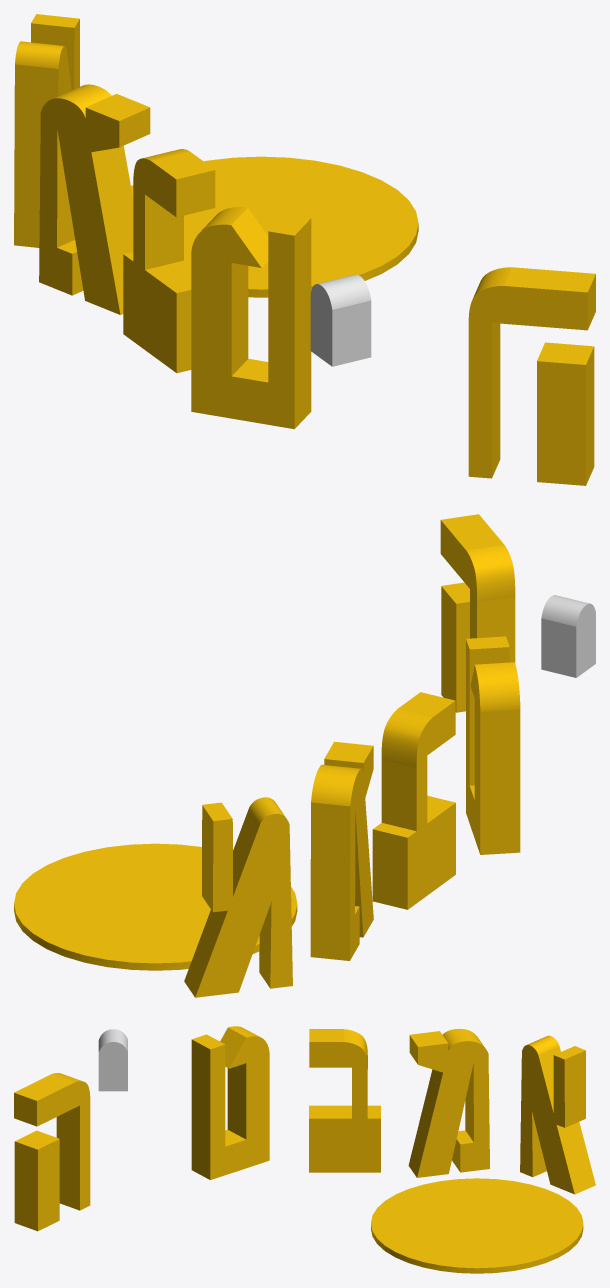
Rendered from TITLE4.gltf.
3 views of the same model, one above another, from view 1: azimuth 30°, elevation 25°; view 2: azimuth 150°, elevation 25°; view 3: azimuth 270°, elevation 25° (orthographic). The views are drawn at different scales.
Parts seen in each view (by area): view 1: Cap 1 (×5), Cylinder, מ, ט, א, ב, ה, י למעלה, Cap 2; view 2: Cap 1 (×4), Cylinder, ט, מ, ב, ה, Cap 2 (×2), א, י למעלה; view 3: Cap 2 (×6), Cylinder, ה, ט, א, מ, ב, י למעלה.
Boxes of the visible parts, bbox=[...] form: Cap 1 (×5): bbox=[39, 98, 587, 485]; Cylinder: bbox=[131, 156, 418, 297]; מ: bbox=[53, 84, 150, 314]; ט: bbox=[201, 207, 311, 428]; א: bbox=[14, 14, 79, 247]; ב: bbox=[123, 149, 215, 373]; ה: bbox=[473, 267, 595, 485]; י למעלה: bbox=[317, 274, 371, 366]; Cap 2: bbox=[58, 19, 79, 95]; Cap 1 (×4): bbox=[195, 603, 595, 997]; Cylinder: bbox=[14, 843, 297, 970]; ט: bbox=[466, 636, 520, 854]; מ: bbox=[310, 741, 372, 960]; ב: bbox=[372, 692, 455, 909]; ה: bbox=[441, 514, 515, 712]; Cap 2 (×2): bbox=[440, 520, 480, 854]; א: bbox=[184, 797, 285, 997]; י למעלה: bbox=[541, 595, 589, 677]; Cap 2 (×6): bbox=[37, 1036, 574, 1230]; Cylinder: bbox=[371, 1178, 583, 1273]; ה: bbox=[14, 1073, 81, 1231]; ט: bbox=[191, 1026, 259, 1179]; א: bbox=[527, 1035, 595, 1194]; מ: bbox=[408, 1028, 484, 1177]; ב: bbox=[309, 1029, 380, 1118]; י למעלה: bbox=[98, 1029, 127, 1052].
Size of the model in its own units: 960 by 475 by 1916.
